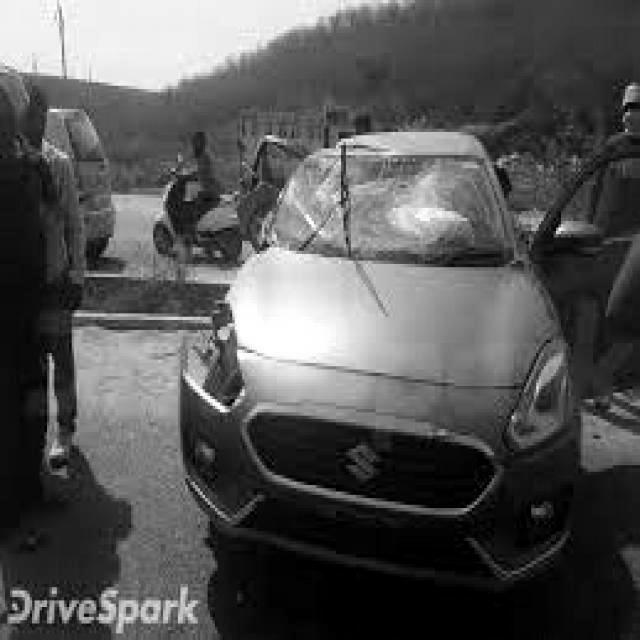Front-windscreen-damage: (272, 142, 516, 264)
Headlight-damage: (178, 297, 252, 419)
